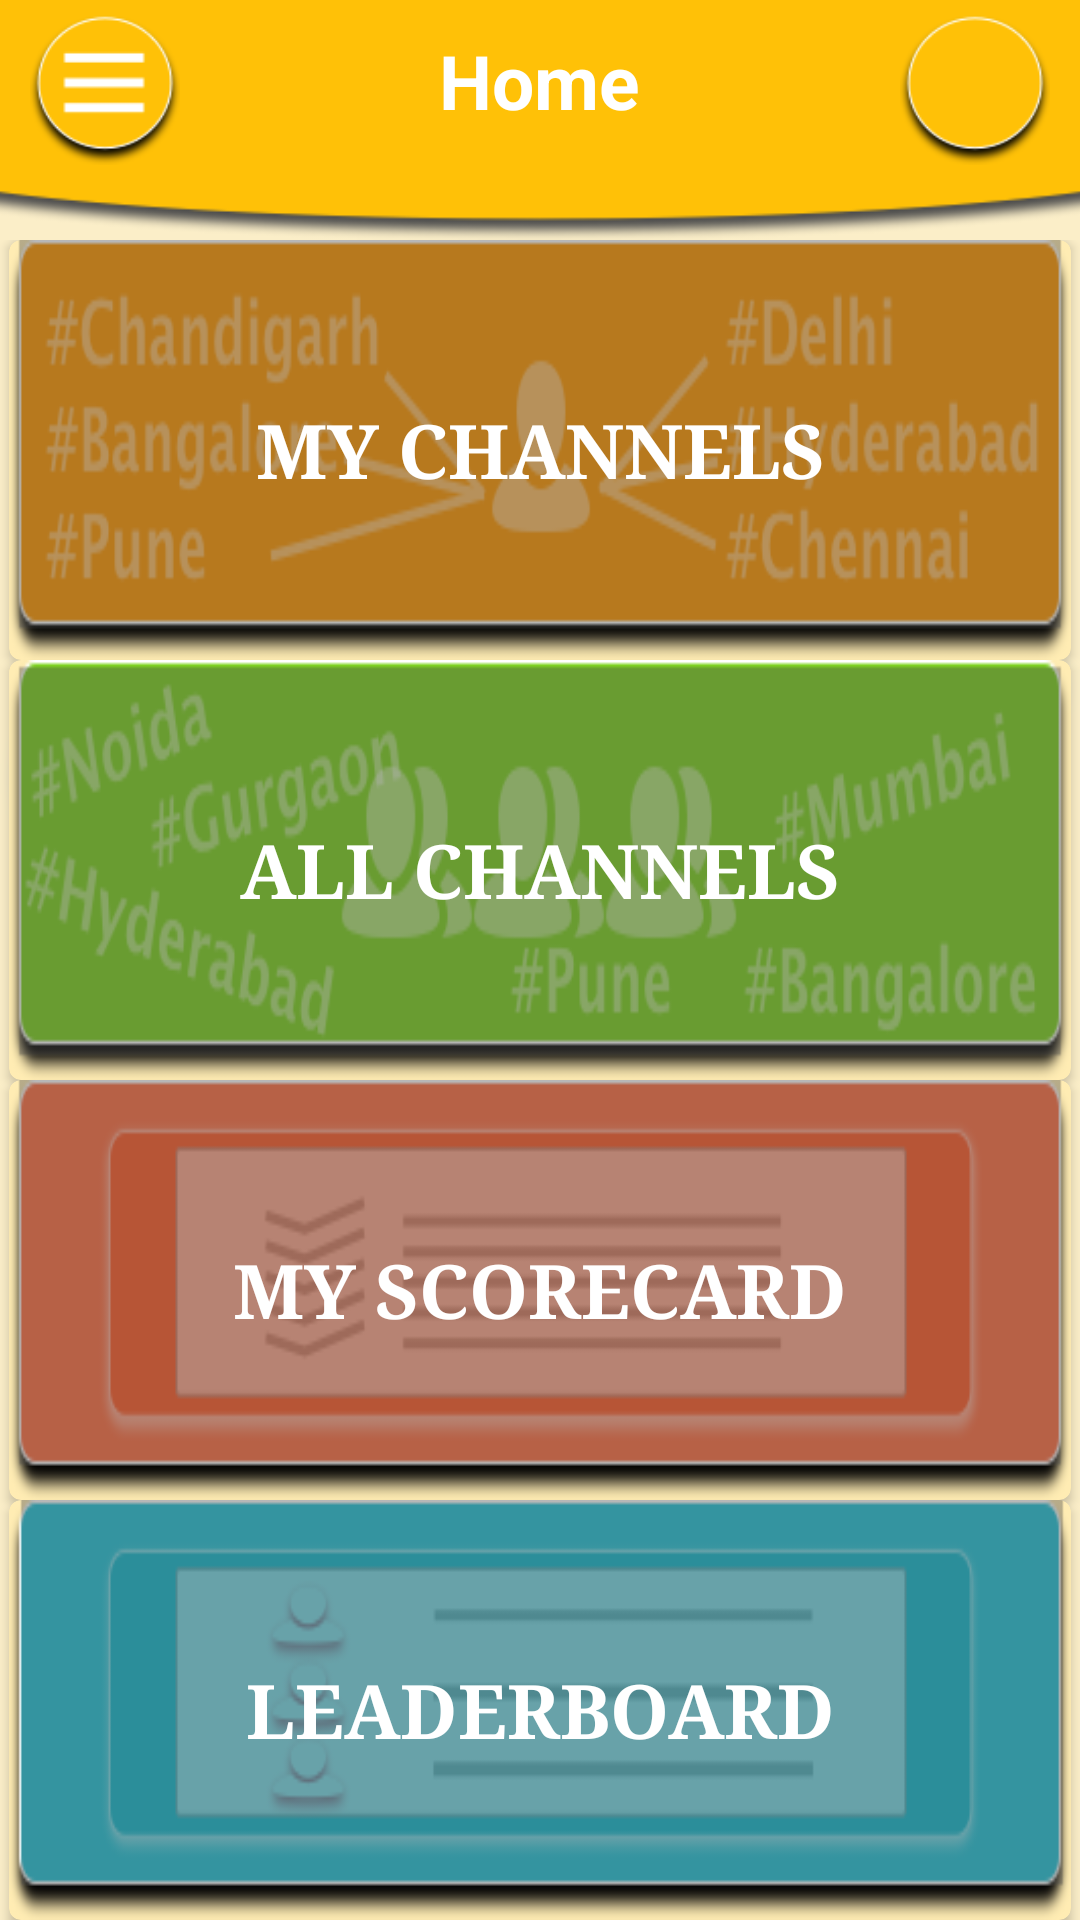

Where to tap for icons on this 1080px x 1920px app screen, as [x,y]:
menubutton: [105,89]
